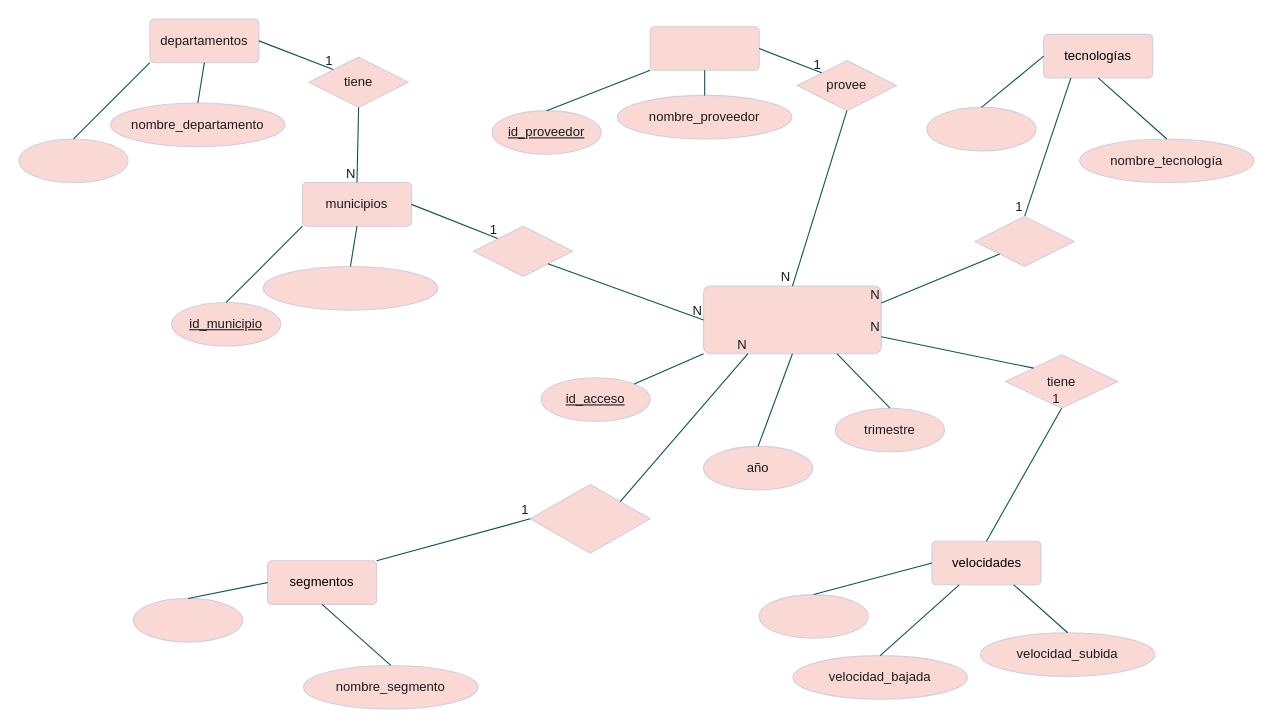
The diagram is 1273 pixels wide and 728 high, and some of its shapes have lost their labels. The shapes that lost their labels are listed below. From the top down, each one's centre as x and y in pixels, then its label:
(x=704, y=48): proveedores
(x=981, y=128): id_tecnología
(x=73, y=160): id_departamento
(x=523, y=250): registra
(x=1024, y=241): utiliza
(x=350, y=287): nombre_municipio
(x=792, y=319): accesos_internet
(x=589, y=518): aplica_a
(x=187, y=619): id_segmento
(x=813, y=616): id_velocidad
